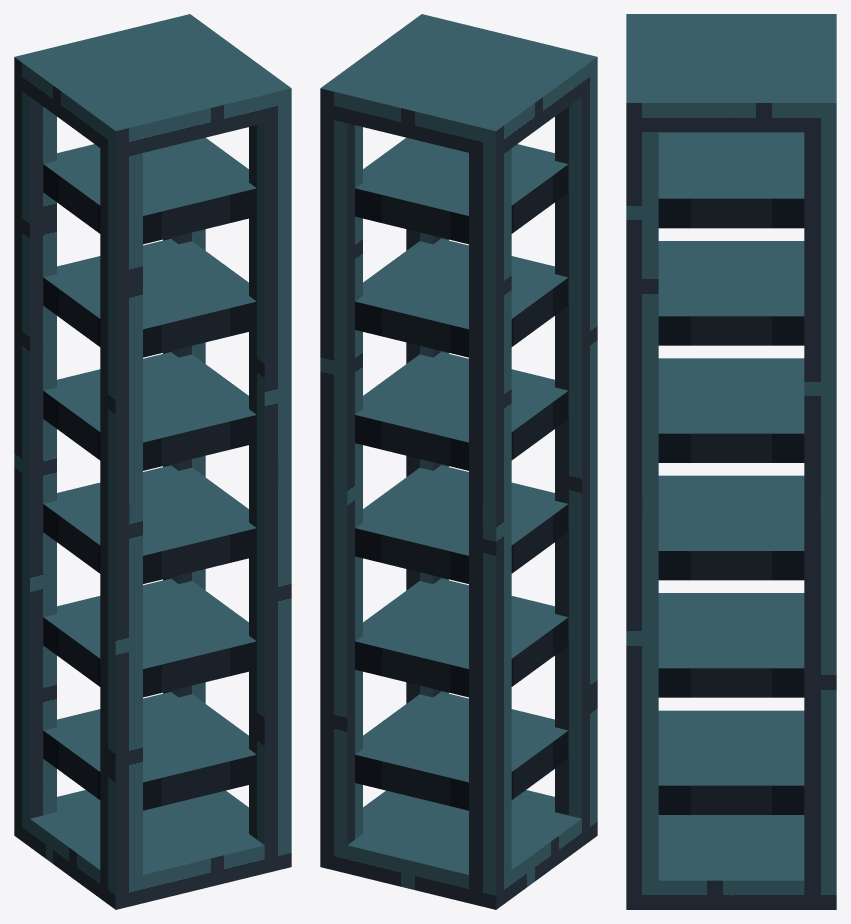
File: neon_frame_dao.fezao.glb
3 views of the same model, side by side, from view 1: azimuth 30°, elevation 25°; view 2: azimuth 150°, elevation 25°; view 3: azimuth 270°, elevation 25° (orthographic). The views are drawn at different scales.
Parts seen in each view (by area): view 1: NEON_FRAME_DAO; view 2: NEON_FRAME_DAO; view 3: NEON_FRAME_DAO.
Part boxes in pixels (x1,y1,x2,y2): NEON_FRAME_DAO: [14, 14, 291, 909]; NEON_FRAME_DAO: [320, 14, 597, 909]; NEON_FRAME_DAO: [626, 14, 836, 909].
Size of the model in its own units: 0.8125 by 3.44 by 0.8125.
Materials: 1 (1 with a texture image).
